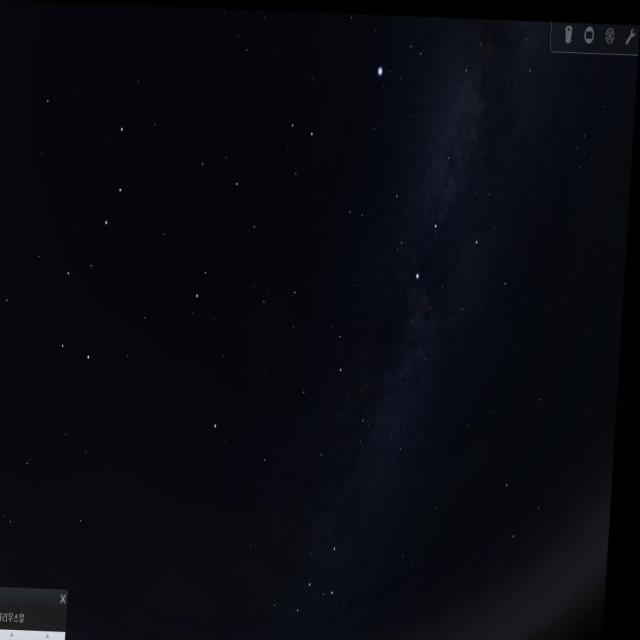cassiopeia: (261, 502, 377, 638)
cygnus: (387, 85, 490, 291)
ursa_major: (49, 105, 135, 372)
